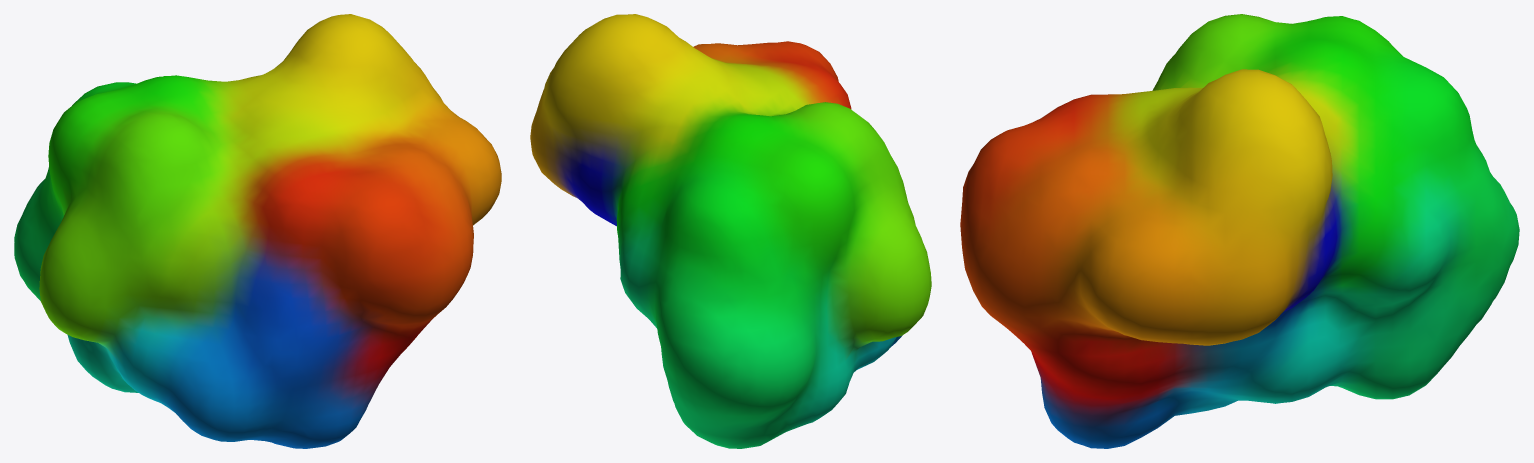
Rendered from QS_1CRN.fbx.
3 renders of one model, left to right at view 1: azimuth 30°, elevation 25°; view 2: azimuth 150°, elevation 25°; view 3: azimuth 270°, elevation 25°, orthographic. The views are drawn at different scales.
Parts seen in each view (by area): view 1: 1CRN_0; view 2: 1CRN_0; view 3: 1CRN_0.
Boxes of the visible parts, left/top/right/bottom form: 1CRN_0: left=14, top=14, right=501, bottom=448; 1CRN_0: left=530, top=14, right=931, bottom=448; 1CRN_0: left=960, top=14, right=1519, bottom=448.
Size of the model in its own units: 33.36 by 27.81 by 33.38.
